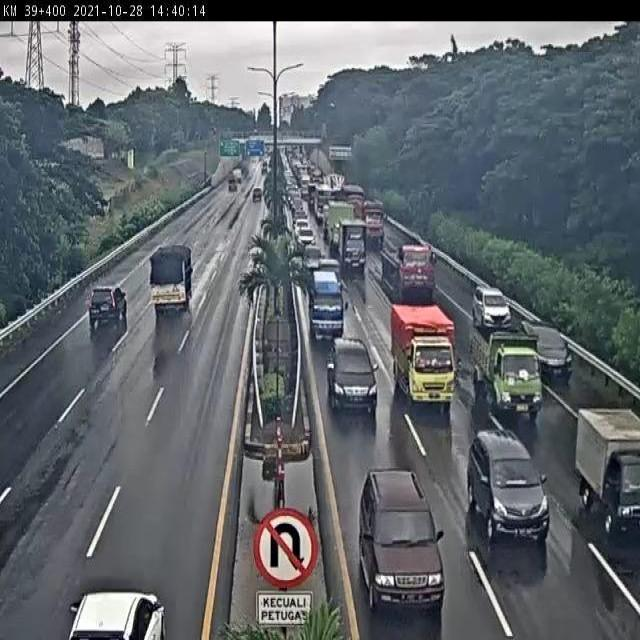bus-s-: (307, 268, 348, 340)
car: (357, 472, 448, 615), (470, 429, 553, 544), (329, 345, 382, 423), (522, 320, 574, 377), (471, 283, 513, 332), (89, 283, 127, 325), (300, 242, 327, 278), (316, 258, 342, 290), (296, 227, 318, 252)
small truck: (149, 247, 192, 313)
truck-m-: (385, 303, 458, 409), (470, 333, 544, 420), (338, 216, 369, 275)
truck-s-: (576, 405, 640, 535)
truck-xl-: (380, 236, 437, 297)
